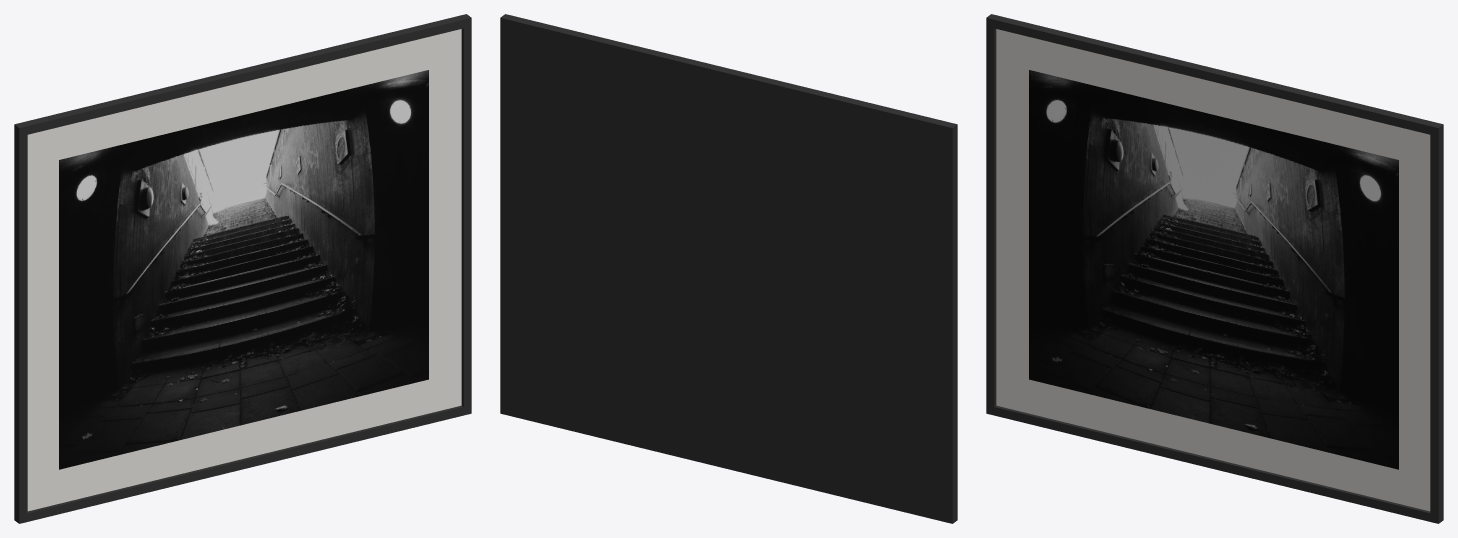
File: uppgangen-90.gltf
The picture shows the model from 3 angles, left to right: view 1: azimuth 30°, elevation 25°; view 2: azimuth 150°, elevation 25°; view 3: azimuth 330°, elevation 25°; orthographic projection.
Visible parts, largest first — view 1: tavla; view 2: tavla; view 3: tavla.
Part boxes in pixels (box(x1,y1,x2,y2)): tavla: box(14, 14, 471, 523); tavla: box(500, 14, 957, 523); tavla: box(986, 14, 1443, 523).
Bounding box in the file's own units: 1.1 × 0.9195 × 0.022.
3 materials, 1 textured.
